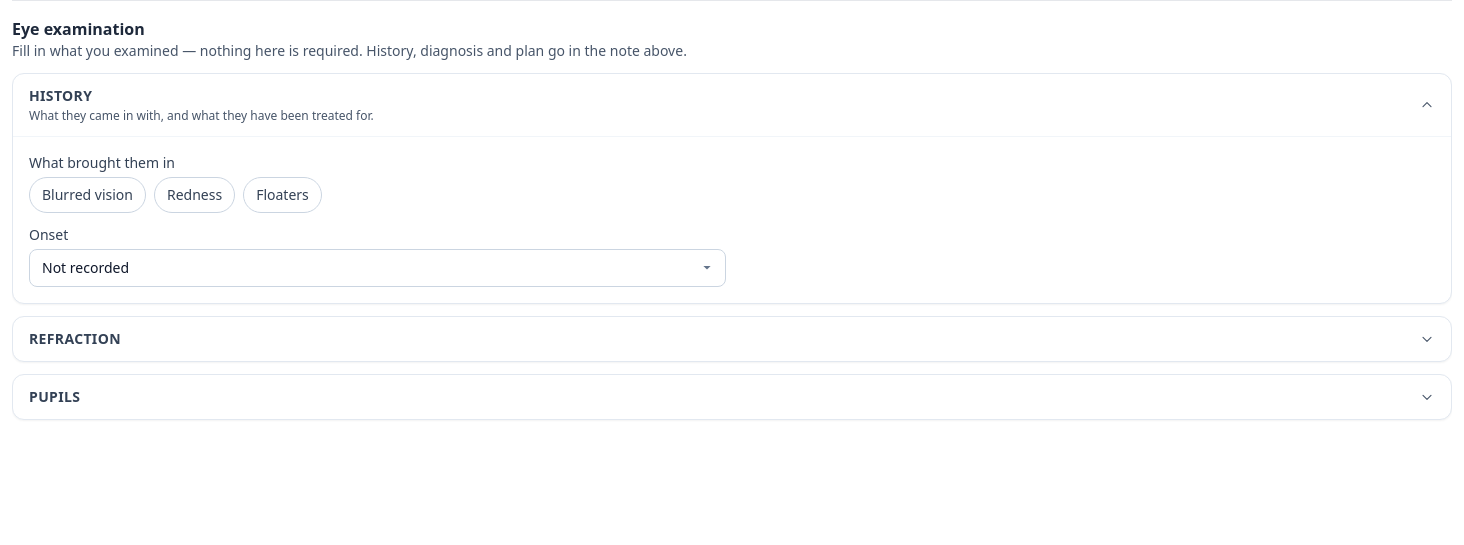
Test: the eye examination form › offers each choice field its own options, per eye where the finding is per eye
The width and height of the screenshot is (1464, 545).
Click the button "Pupils" at (55, 396), box [13,375,1451,419]
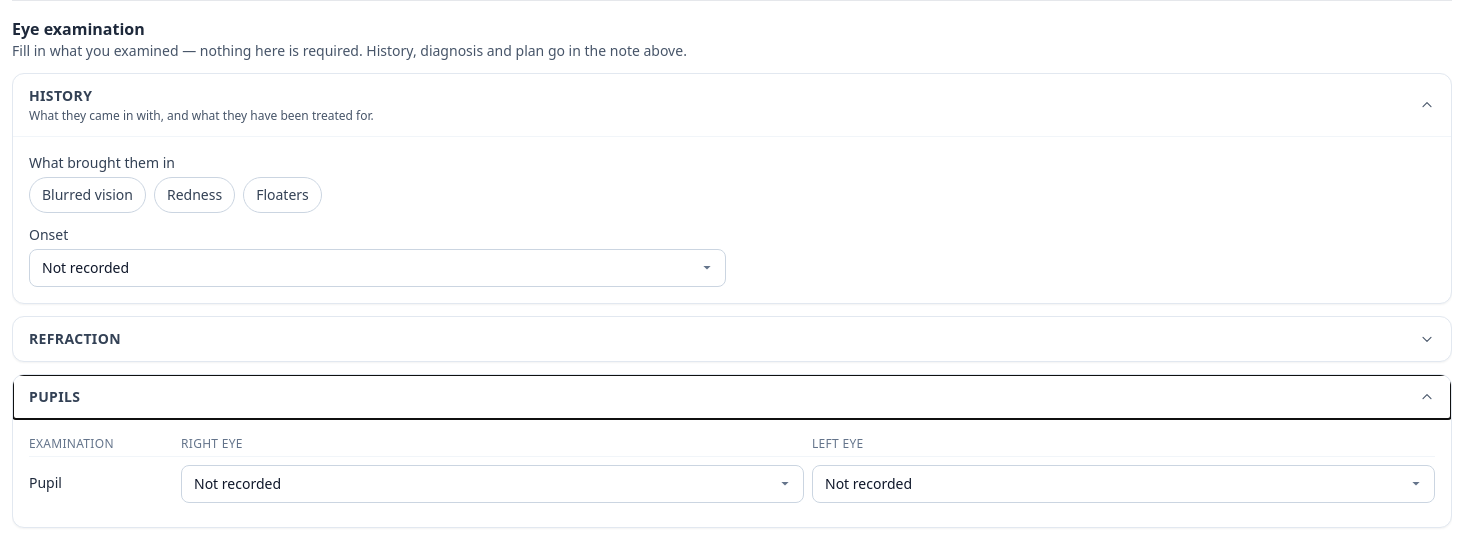
Expected: the dropdown named "Pupil — left eye" is shown, [812,465,1435,503]
